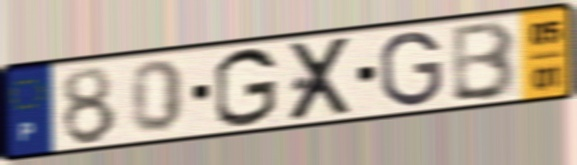0: (127, 57, 186, 138)
8: (59, 64, 120, 146)
B: (449, 17, 520, 104)
G: (211, 45, 280, 130), (376, 29, 445, 110)
X: (285, 33, 357, 125)
